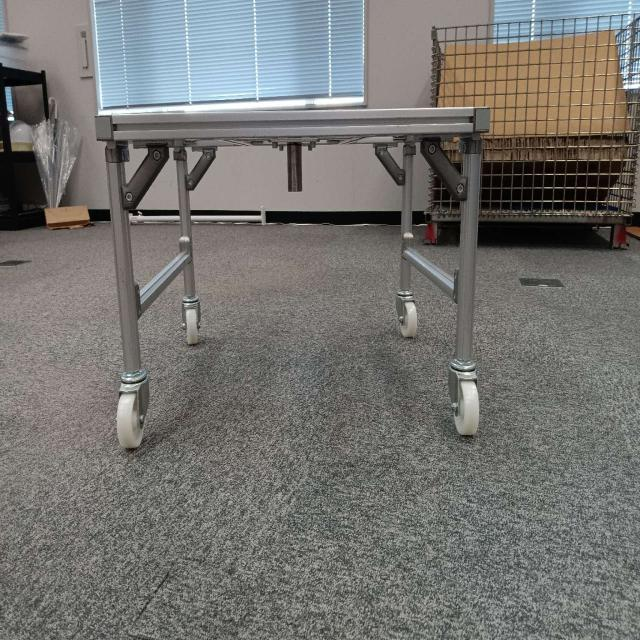door: (100, 107, 486, 206)
